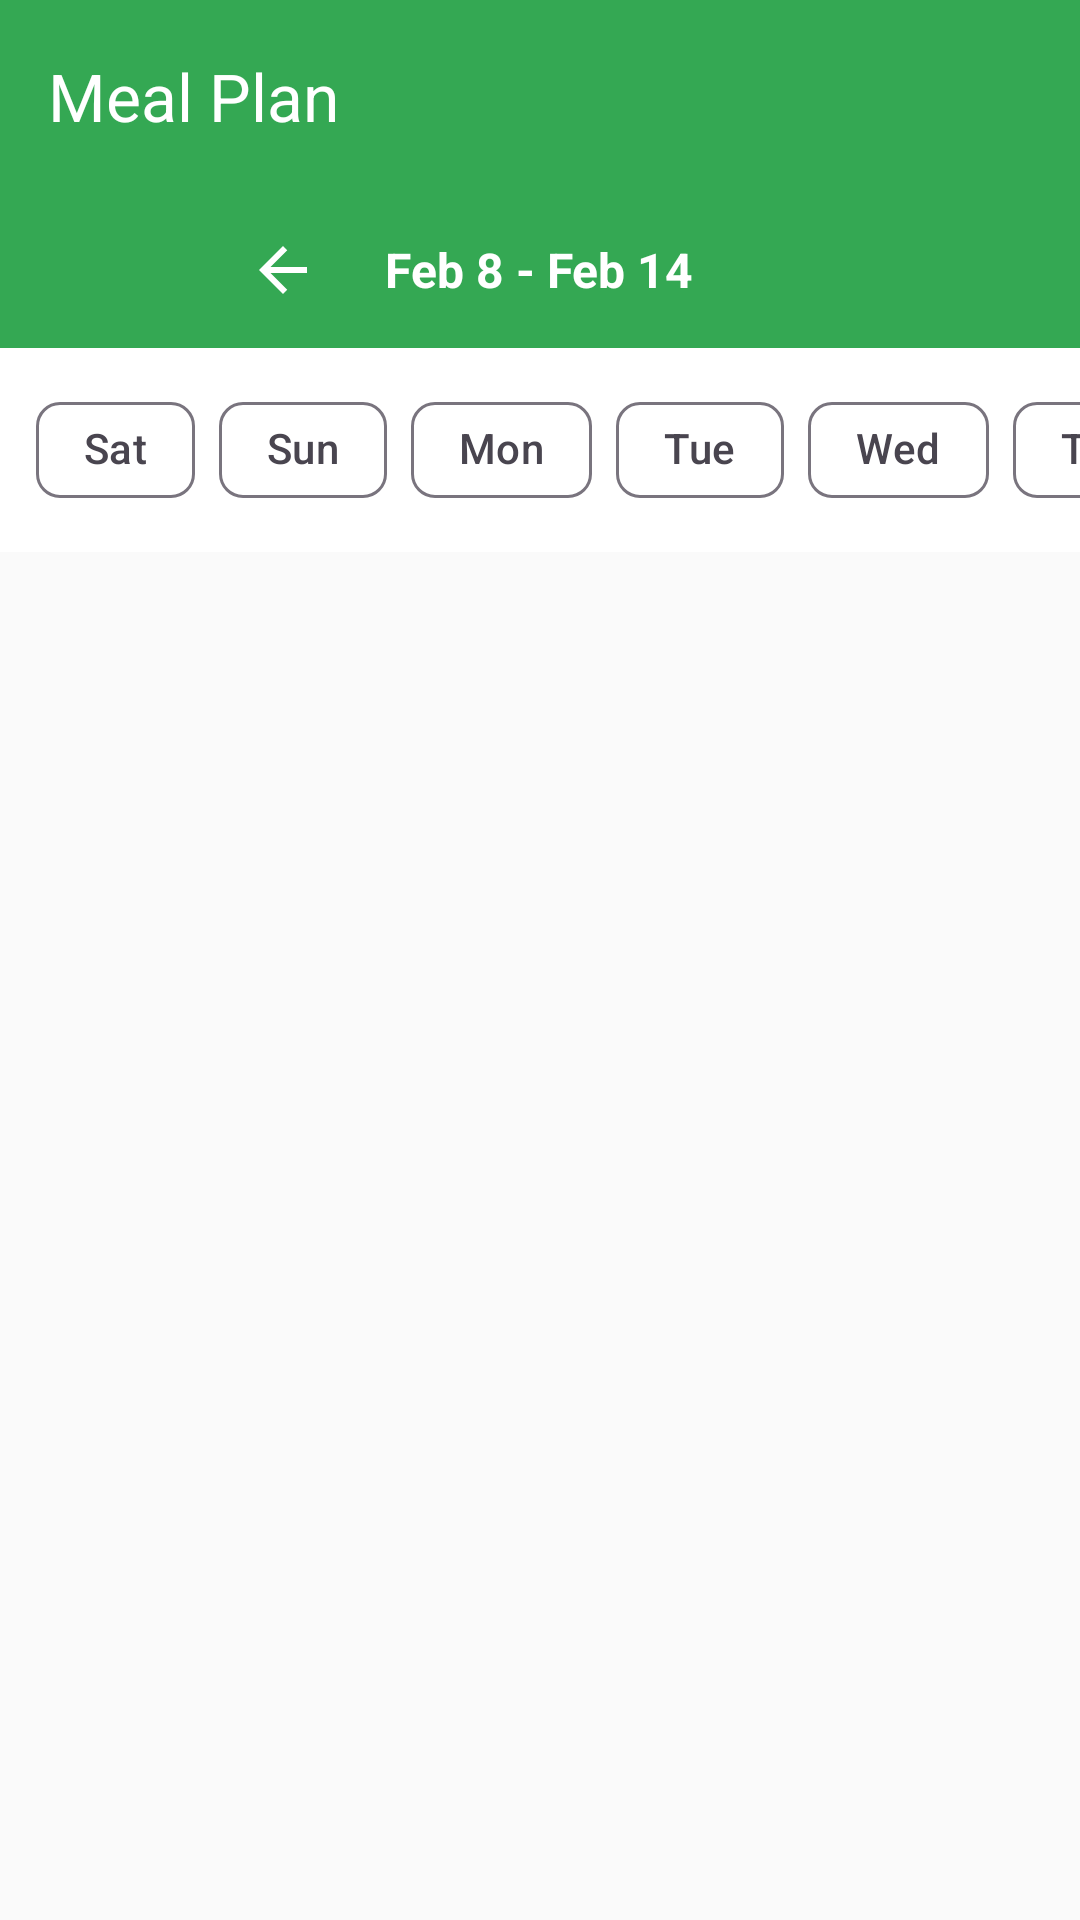

Locate icon controls on the screen. Image size 1080 x 1920, boxes as Rect(x1, y1, x2, y2).
Previous week: Rect(259, 246, 307, 294)
